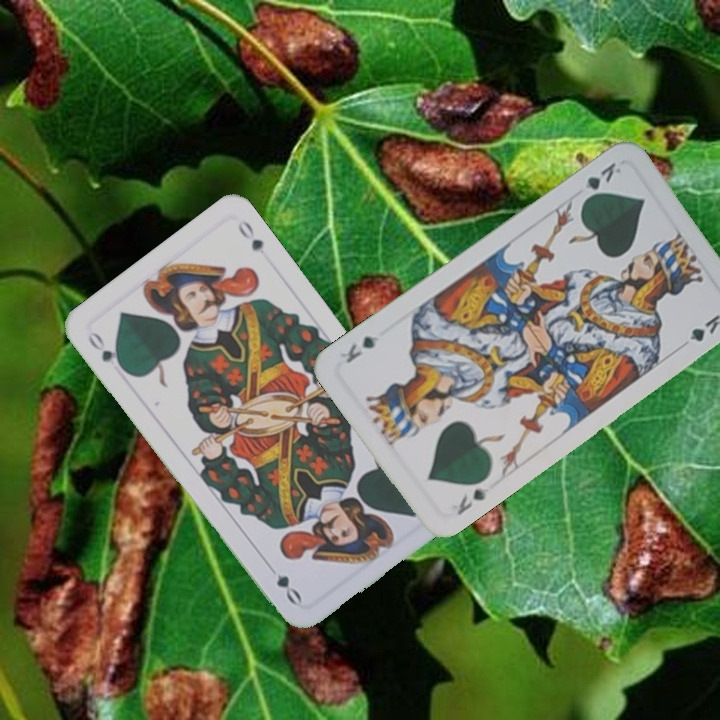GK: (578, 158, 624, 205), (453, 484, 492, 518)
GO: (83, 327, 129, 375)
